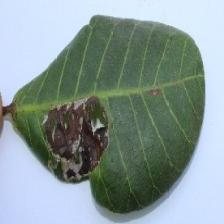leaf miner: (41, 93, 110, 180)
